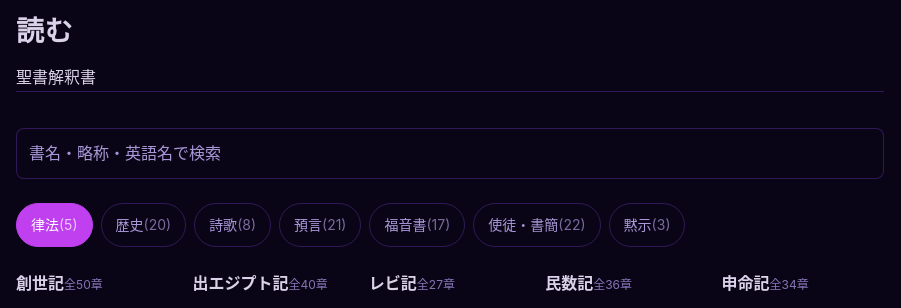
it: 読むところの入口 › 書名検索でカテゴリーをまたいだ書を表示する
Type "Peter" into the search field named "書を検索" at (450, 153), box left=16, top=128, right=884, bottom=179
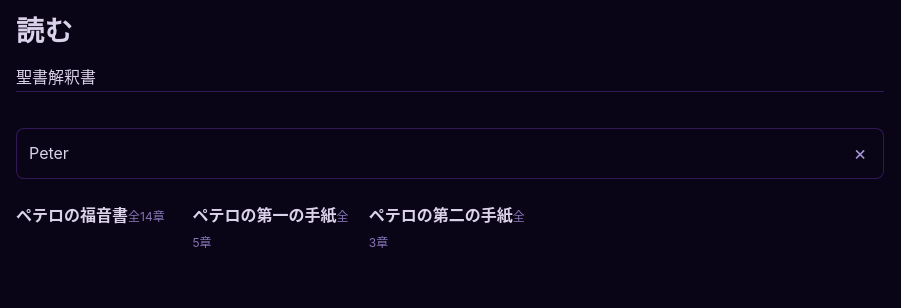
Now the text "ペテロの福音書" is shown, box left=16, top=205, right=128, bottom=225
Click the button named "入力をクリア" at (860, 153), box left=838, top=131, right=882, bottom=175
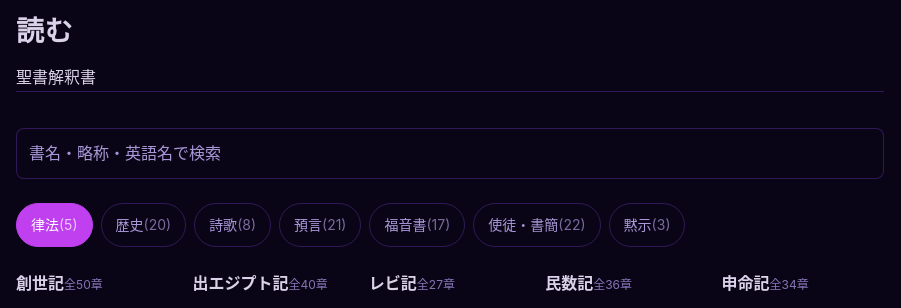
Now the search field named "書を検索" is empty, box left=16, top=128, right=884, bottom=179
